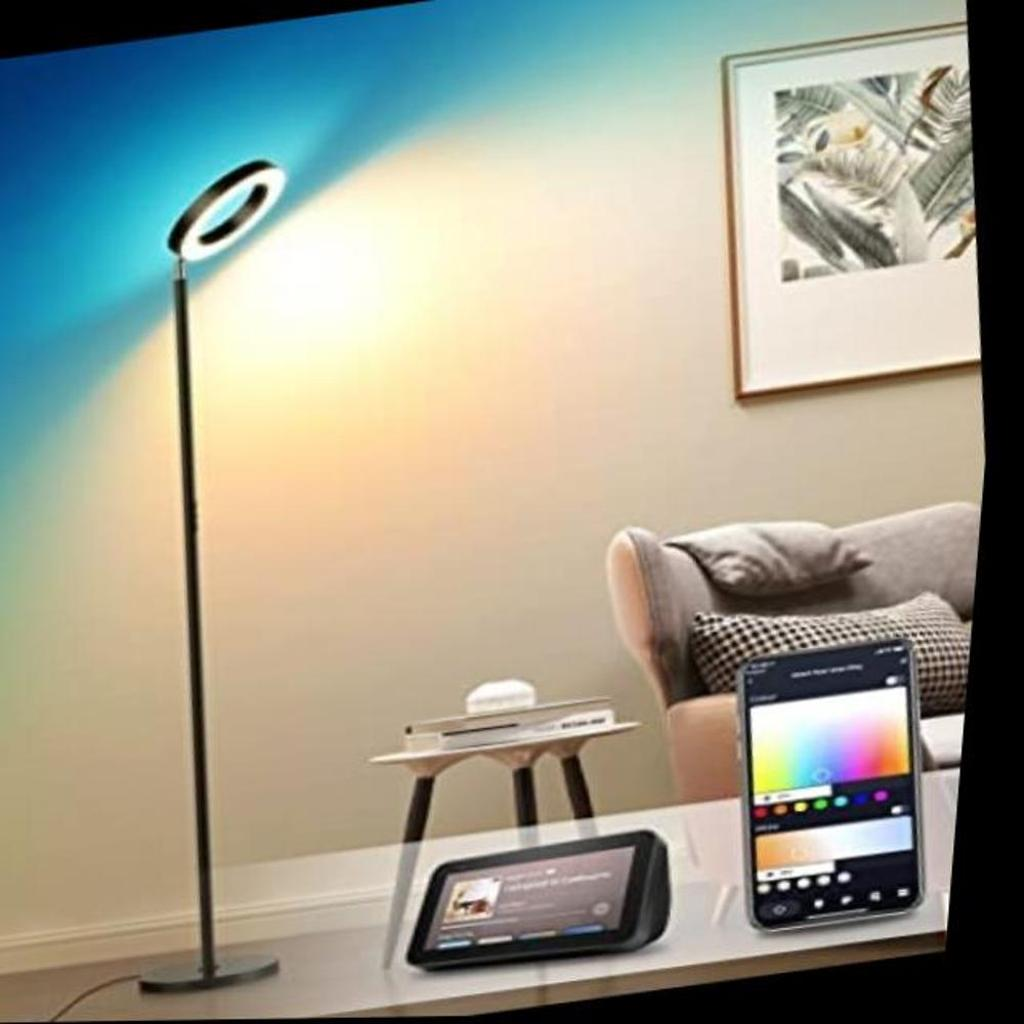shelf: (20, 128, 419, 1013)
